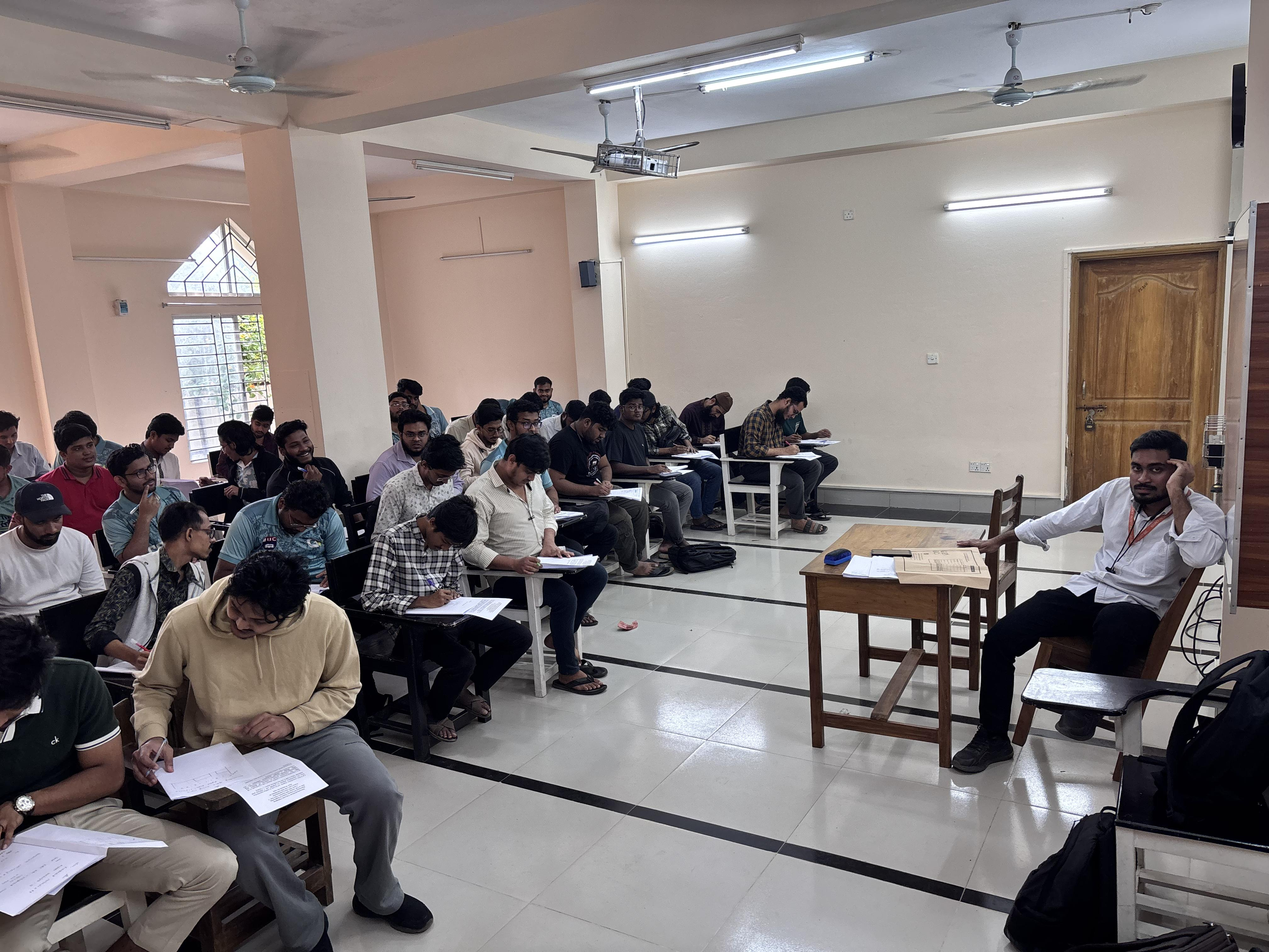copying: (118, 567, 384, 880), (120, 515, 236, 607)
invigilator: (935, 438, 1235, 747)
no_cheating: (0, 611, 151, 952), (362, 504, 523, 684), (483, 432, 559, 646), (8, 484, 100, 626), (560, 413, 639, 552), (236, 492, 350, 564), (47, 427, 125, 531), (109, 455, 194, 548), (747, 392, 802, 520), (384, 446, 476, 520), (142, 404, 216, 479), (618, 394, 656, 530), (143, 399, 203, 482), (681, 393, 743, 461), (2, 408, 45, 479), (382, 416, 435, 473), (390, 386, 423, 420)
side_talking: (273, 417, 363, 496), (203, 422, 277, 496)
suspicious_moving: (532, 371, 564, 415)
